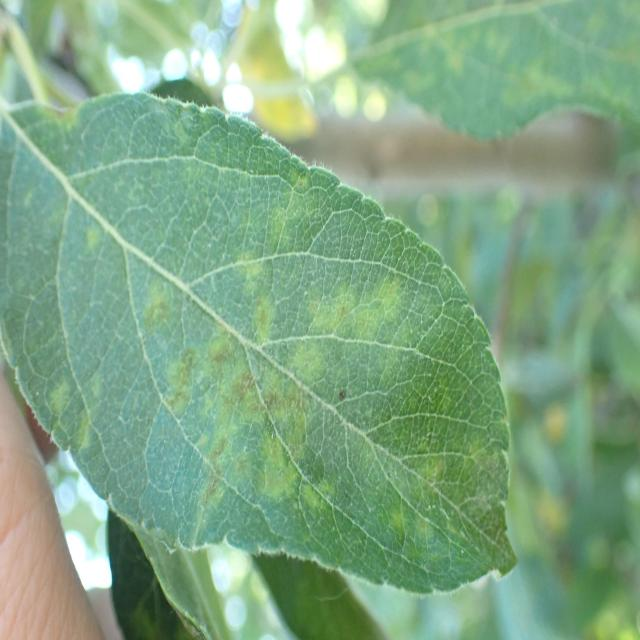scab: (20, 94, 505, 564)
